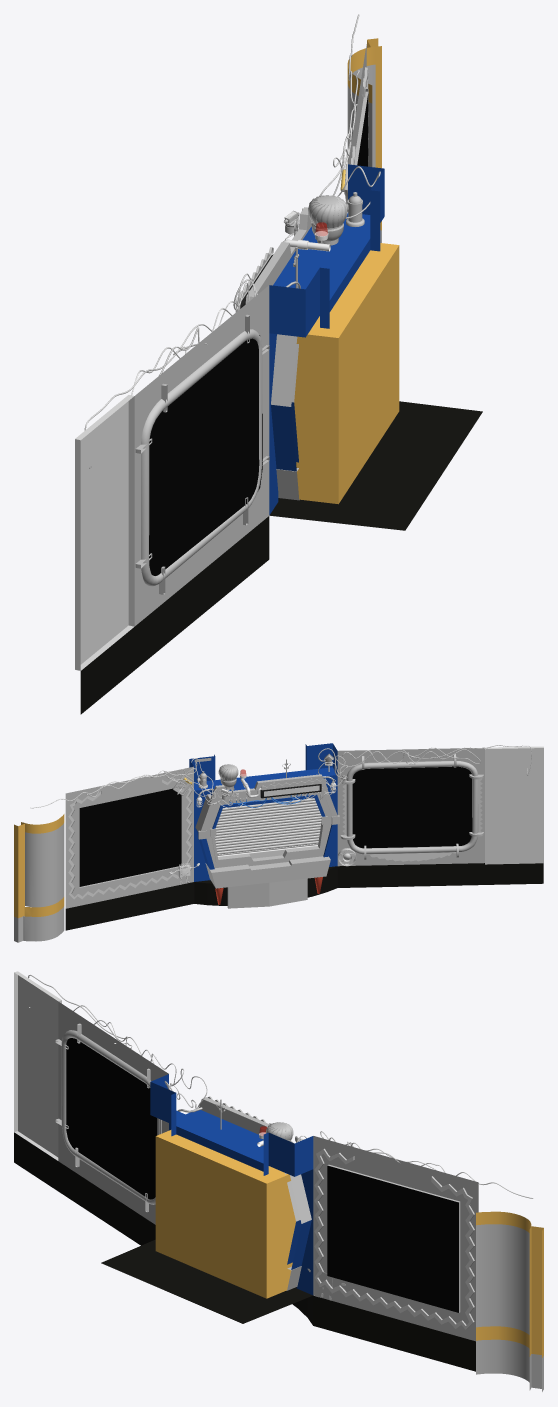
The model's file is AAM stage.fbx.
The picture shows the model from 3 angles, top to bottom: view 1: azimuth 30°, elevation 25°; view 2: azimuth 150°, elevation 25°; view 3: azimuth 270°, elevation 25°; orthographic projection. The views are drawn at different scales.
Parts seen in each view (by area): view 1: Plane.008; view 2: Plane.008; view 3: Plane.008.
Boxes of the visible parts, x1,y1,x2,y2 form: Plane.008: (75, 14, 482, 714); Plane.008: (14, 743, 543, 942); Plane.008: (14, 971, 543, 1391).
Bounding box in the file's own units: 563 × 225 × 548.
